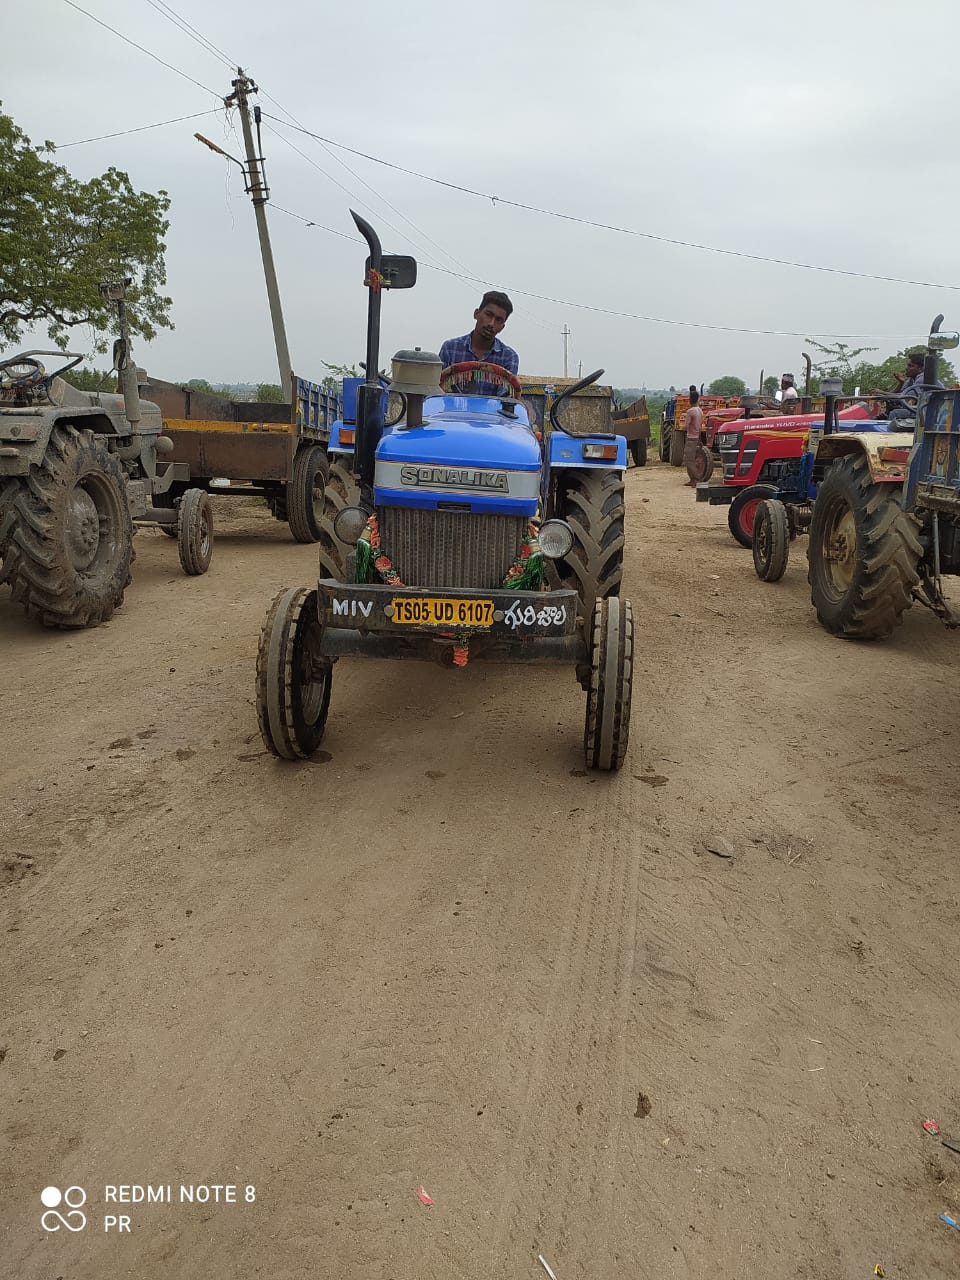num_plate: (388, 595, 495, 627)
